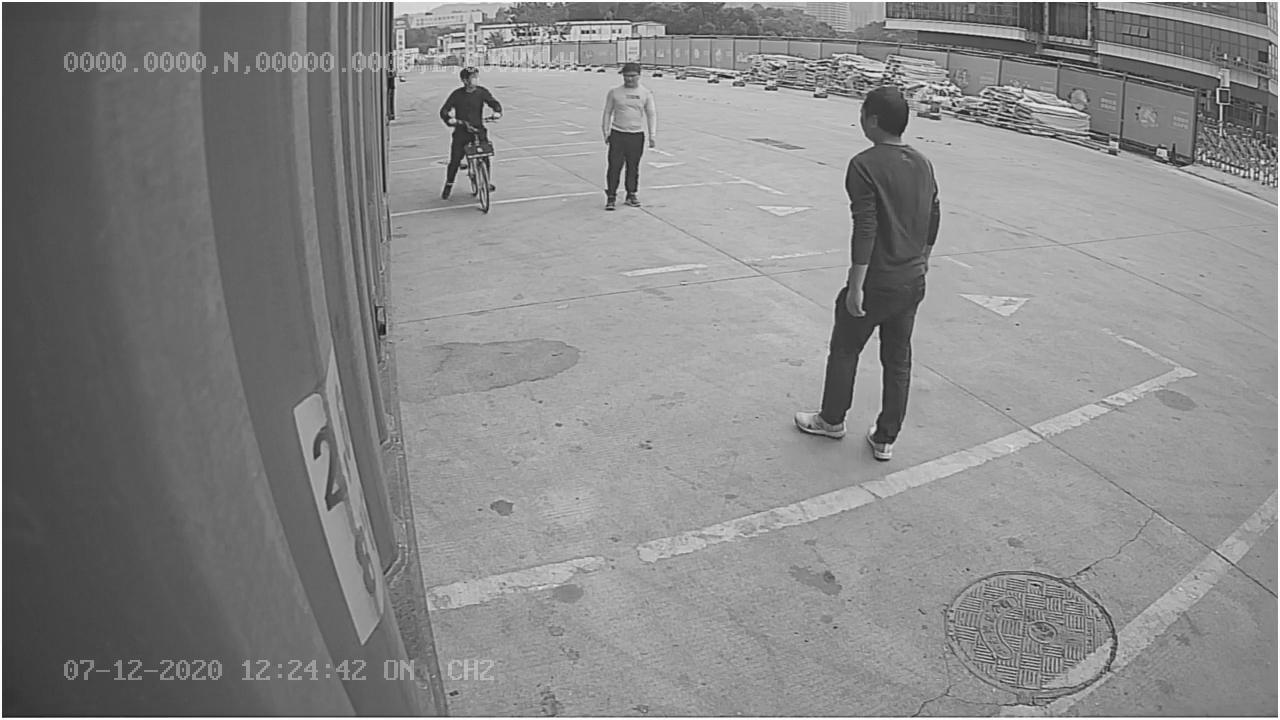person: (790, 84, 946, 467), (599, 58, 662, 215)
